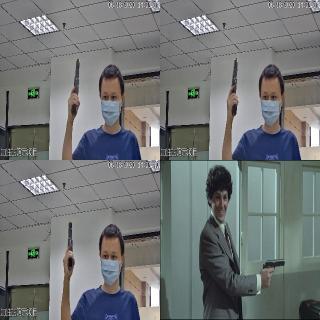gun: (229, 55, 241, 119), (260, 256, 284, 286), (70, 57, 80, 117), (65, 220, 73, 272)
